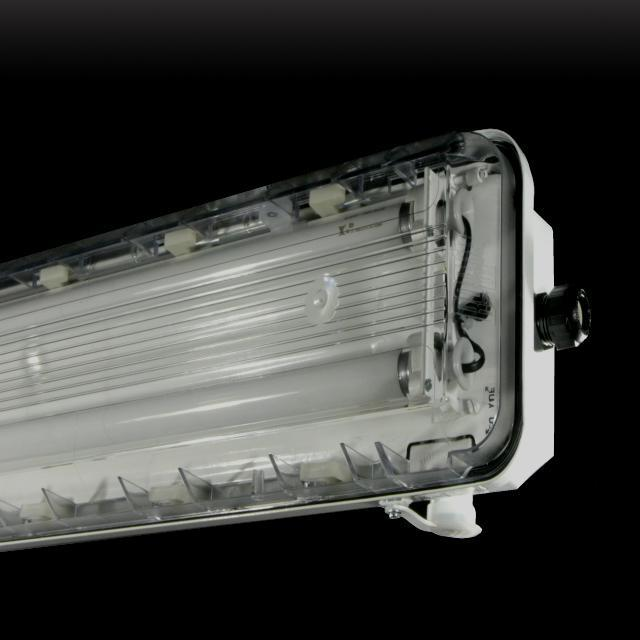light: (0, 126, 591, 552)
